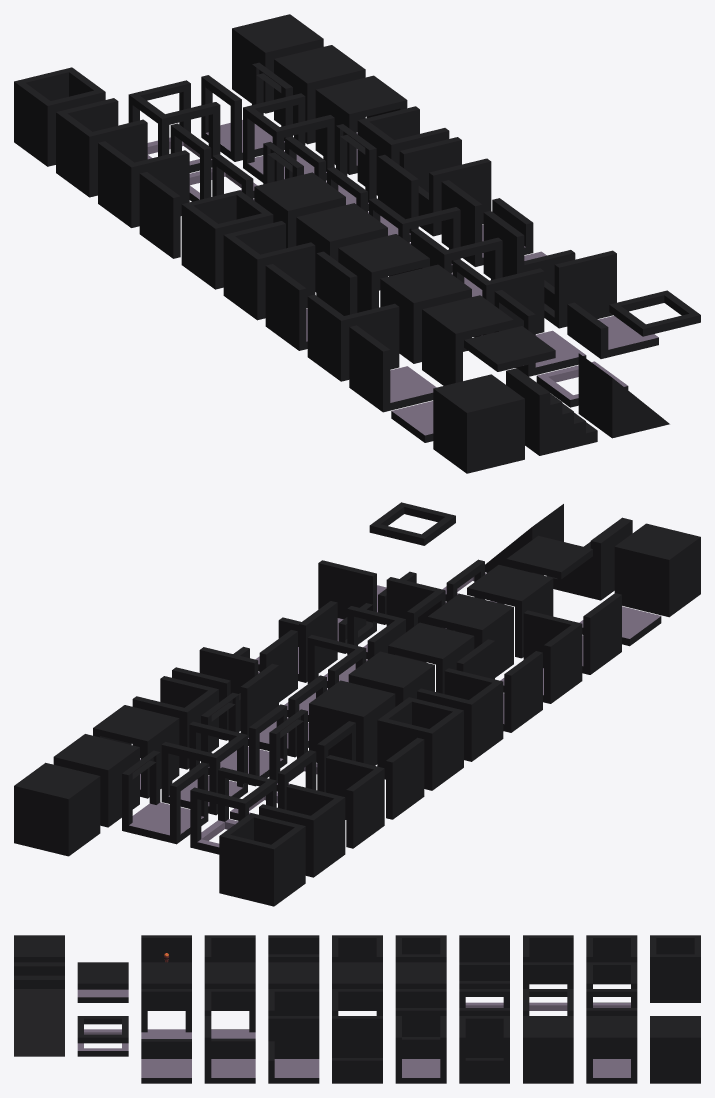
The model's file is Blocks.glb.
3 renders of one model, top to bottom at view 1: azimuth 30°, elevation 25°; view 2: azimuth 150°, elevation 25°; view 3: azimuth 270°, elevation 25°, orthographic. The views are drawn at different scales.
Parts seen in each view (by area): view 1: 01.Cube, 04.wall2.010, 09.wall4.004, 01.Cube.003, 09.wall4.002, 01.Cube.001, 05.roof1, 04.wall2, 04.wall2.009, 09.wall4, 03.wall1, 06.roof2 (+29 smaller); view 2: 01.Cube.015, 09.wall4.002, 01.Cube, 01.Cube.003, 01.Cube.004, 01.Cube.014, 09.wall4.004, 04.wall2.010, 04.wall2, 04.wall2.002, 09.wall4, 04.wall2.005 (+27 smaller); view 3: 04.wall2.002, 04.wall2.008, 01.Cube.006, 01.Cube.011, 01.Cube.012, 01.Cube.013, 01.Cube.015, 09.wall4.002, 04.wall2.009, 04.wall2.007, 03.wall1.003, 09.wall4.004 (+29 smaller).
Part boxes in pixels (<box>): 01.Cube: <box>433,374,524,473</box>; 04.wall2.010: <box>223,221,315,320</box>; 09.wall4.004: <box>56,98,147,197</box>; 01.Cube.003: <box>181,190,273,289</box>; 09.wall4.002: <box>14,67,105,166</box>; 01.Cube.001: <box>265,251,357,350</box>; 05.roof1: <box>422,295,513,385</box>; 04.wall2: <box>307,294,399,381</box>; 04.wall2.009: <box>399,137,491,236</box>; 09.wall4: <box>98,141,189,227</box>; 03.wall1: <box>349,325,436,412</box>; 06.roof2: <box>380,264,471,363</box>; 01.Cube.015: <box>14,762,100,856</box>; 09.wall4.002: <box>219,813,305,906</box>; 01.Cube: <box>614,523,700,617</box>; 01.Cube.003: <box>377,697,463,790</box>; 01.Cube.004: <box>309,680,395,765</box>; 01.Cube.014: <box>122,750,208,844</box>; 09.wall4.004: <box>259,784,345,877</box>; 04.wall2.010: <box>417,668,503,761</box>; 04.wall2: <box>500,610,582,703</box>; 04.wall2.002: <box>53,734,139,827</box>; 09.wall4: <box>326,755,384,848</box>; 04.wall2.005: <box>161,721,247,815</box>; 04.wall2.002: <box>586,1016,637,1083</box>; 04.wall2.008: <box>268,1016,319,1083</box>; 01.Cube.006: <box>14,989,64,1056</box>; 01.Cube.011: <box>332,1016,382,1083</box>; 01.Cube.012: <box>459,1016,509,1083</box>; 01.Cube.013: <box>523,1016,573,1083</box>; 01.Cube.015: <box>650,1016,700,1083</box>; 09.wall4.002: <box>650,935,700,1002</box>; 04.wall2.009: <box>395,1016,446,1083</box>; 04.wall2.007: <box>204,1016,255,1083</box>; 03.wall1.003: <box>141,1039,191,1083</box>; 09.wall4.004: <box>586,935,637,984</box>.
Bounding box in the file's own units: 19 × 4 × 54.
Materials: 2 (2 with a texture image).
